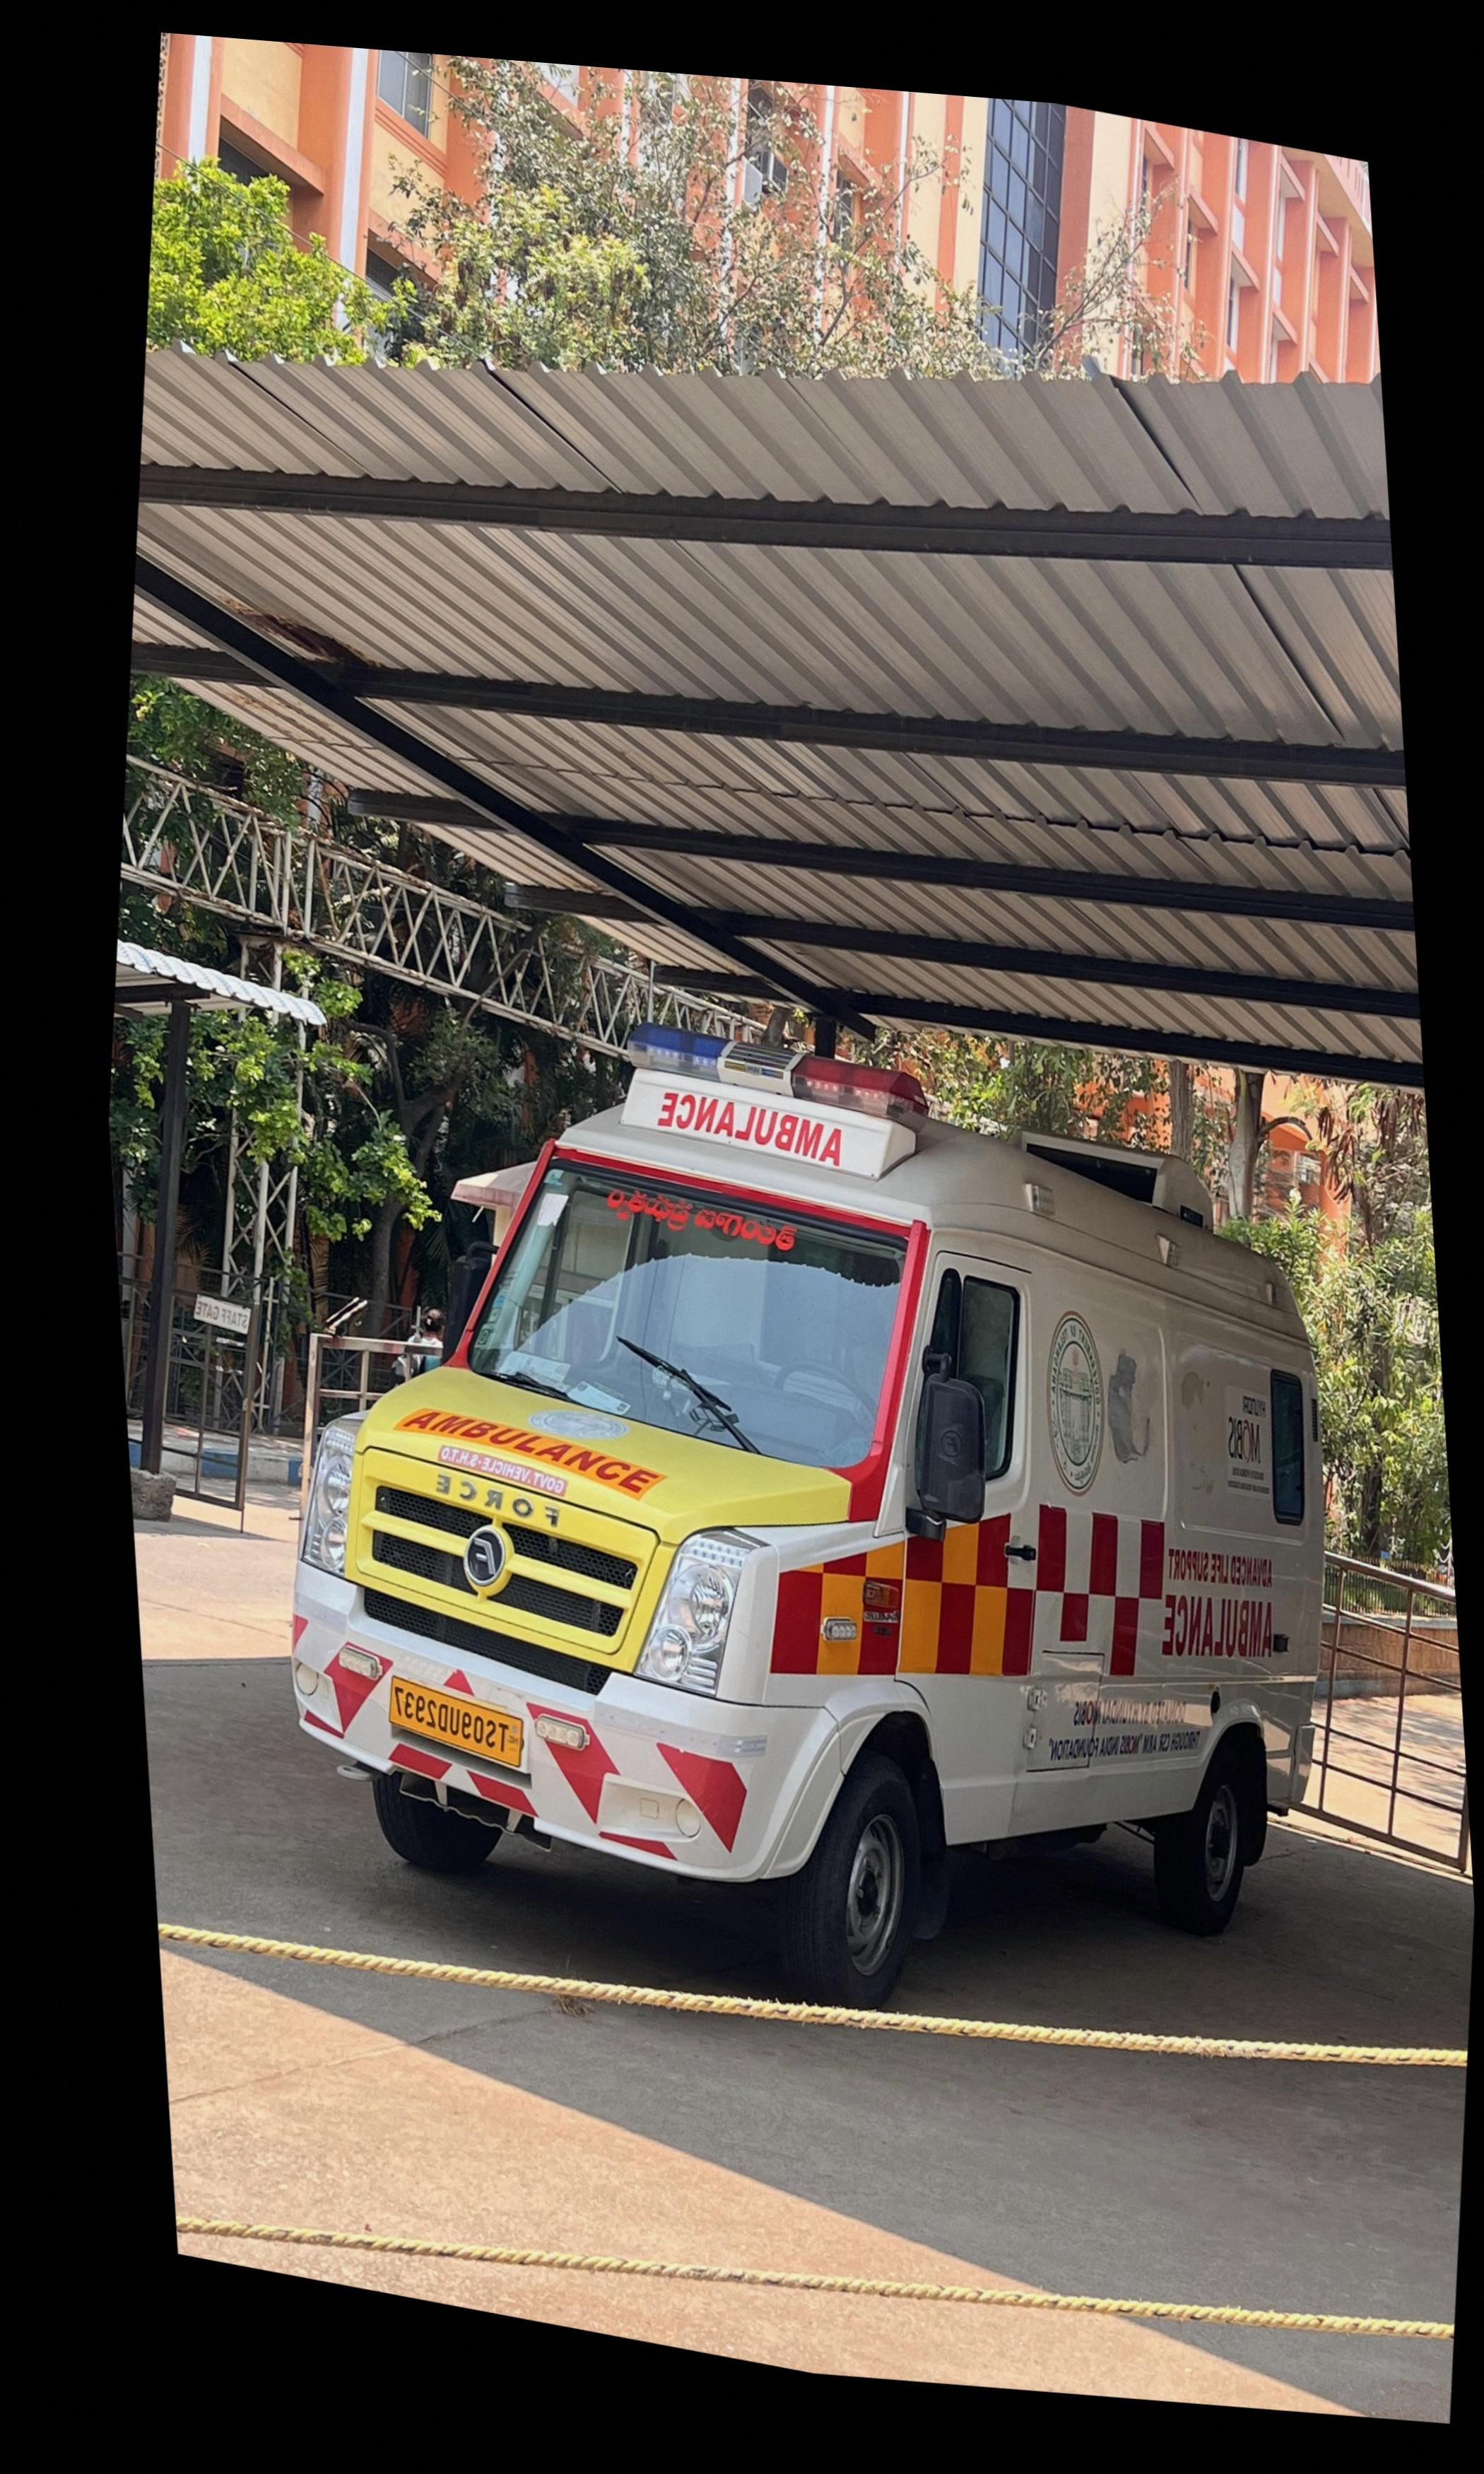ambulance: (293, 1034, 1323, 1999)
